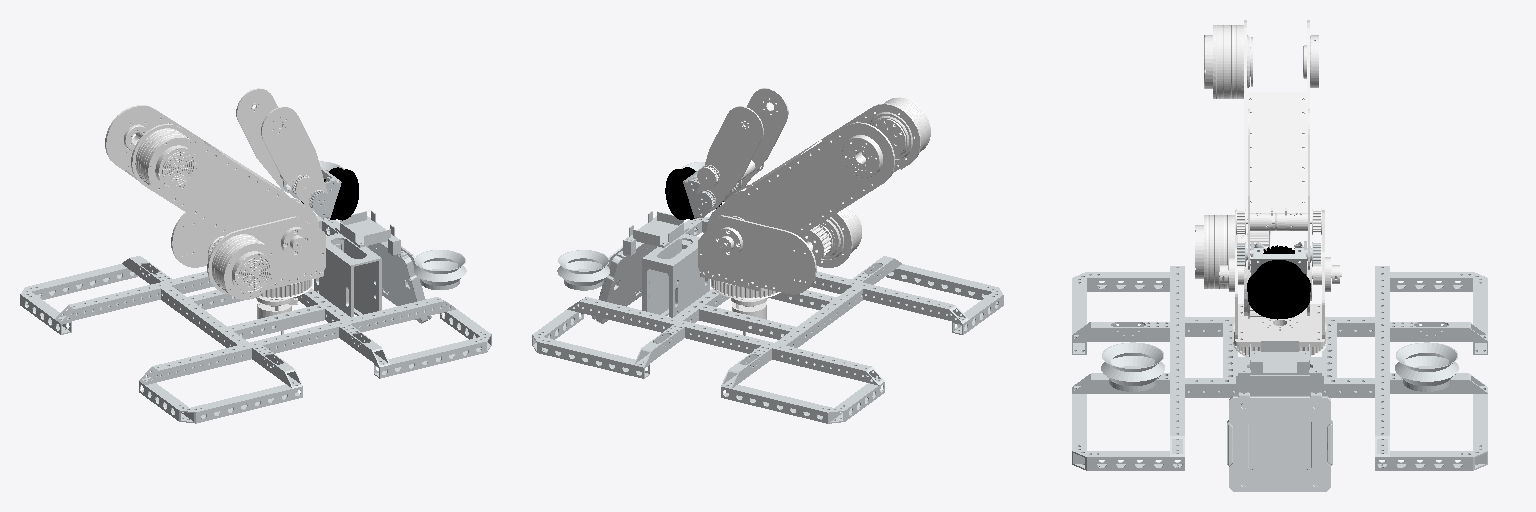
URDF robot description (rm26_version1_engineering_model):
<?xml version="1.0" encoding="utf-8"?>
<!-- This URDF was automatically created by SolidWorks to URDF Exporter! Originally created by Stephen Brawner (brawner@gmail.com) 
     Commit Version: 1.6.0-4-g7f85cfe  Build Version: 1.6.7995.38578
     For more information, please see http://wiki.ros.org/sw_urdf_exporter -->
<robot
  name="rm26_version1_engineering_model">
  <link
    name="base_link">
  </link>
  <link
    name="chasis_Link">
    <inertial>
      <origin
        xyz="0.011583 0.00022577 0.036705"
        rpy="0 0 0" />
      <mass
        value="2.0877" />
      <inertia
        ixx="0.0029411"
        ixy="-1.5751E-07"
        ixz="3.5749E-05"
        iyy="0.016809"
        iyz="-1.6425E-08"
        izz="0.018688" />
    </inertial>
    <visual>
      <origin
        xyz="0 0 0"
        rpy="0 0 0" />
      <geometry>
        <mesh
          filename="package://rm26_version1_engineering_model/meshes/chasis_Link.STL" />
      </geometry>
      <material
        name="">
        <color
          rgba="0.89804 0.91765 0.92941 1" />
      </material>
    </visual>
    <collision>
      <origin
        xyz="0 0 0"
        rpy="0 0 0" />
      <geometry>
        <mesh
          filename="package://rm26_version1_engineering_model/meshes/chasis_Link.STL" />
      </geometry>
    </collision>
  </link>
  <joint
    name="chasis_fix_joint"
    type="fixed">
    <origin
      xyz="0 0 0.0065"
      rpy="0 0 0" />
    <parent
      link="base_link" />
    <child
      link="chasis_Link" />
    <axis
      xyz="0 0 0" />
  </joint>
  <link
    name="fl_Link">
  </link>
  <joint
    name="fl_joint"
    type="revolute">
    <origin
      xyz="0.134999999999994 0.145000000000009 0.0345000000000023"
      rpy="-1.5707963267949 0 0" />
    <parent
      link="chasis_Link" />
    <child
      link="fl_Link" />
    <axis
      xyz="0 0 -1" />
    <limit
      lower="-3.14"
      upper="3.14"
      effort="0"
      velocity="0" />
  </joint>
  <link
    name="fr_Link">
  </link>
  <joint
    name="fr_joint"
    type="revolute">
    <origin
      xyz="0.134999999999995 -0.144999999999996 0.0345000000000023"
      rpy="1.5707963267949 0 0" />
    <parent
      link="chasis_Link" />
    <child
      link="fr_Link" />
    <axis
      xyz="0 0 -1" />
    <limit
      lower="-3.14"
      upper="3.14"
      effort="0"
      velocity="0" />
  </joint>
  <link
    name="rl_Link">
  </link>
  <joint
    name="rl_joint"
    type="revolute">
    <origin
      xyz="-0.235000000000006 0.14500000000001 0.0345000000000023"
      rpy="-1.5707963267949 0 0" />
    <parent
      link="chasis_Link" />
    <child
      link="rl_Link" />
    <axis
      xyz="0 0 -1" />
    <limit
      lower="-3.14"
      upper="3.14"
      effort="0"
      velocity="0" />
  </joint>
  <link
    name="rr_Link">
  </link>
  <joint
    name="rr_joint"
    type="revolute">
    <origin
      xyz="-0.220000000000005 -0.144999999999996 0.0345000000000023"
      rpy="1.5707963267949 0 0" />
    <parent
      link="chasis_Link" />
    <child
      link="rr_Link" />
    <axis
      xyz="0 0 -1" />
    <limit
      lower="-3.14"
      upper="3.14"
      effort="0"
      velocity="0" />
  </joint>
  <link
    name="j1_Link">
    <inertial>
      <origin
        xyz="-0.0343319480610391 -0.0160298397087286 0.0543083307807403"
        rpy="0 0 0" />
      <mass
        value="1.88378095557823" />
      <inertia
        ixx="0.014829968"
        ixy="0.003109302"
        ixz="-0.005532366"
        iyy="0.017550057"
        iyz="-0.002561858"
        izz="0.013037222"
      />
    </inertial>
    <visual>
      <origin
        xyz="0 0 0"
        rpy="0 0 0" />
      <geometry>
        <mesh
          filename="package://rm26_version1_engineering_model/meshes/j1_Link.STL" />
      </geometry>
      <material
        name="">
        <color
          rgba="1 1 1 1" />
      </material>
    </visual>
    <collision>
      <origin
        xyz="0 0 0"
        rpy="0 0 0" />
      <geometry>
        <mesh
          filename="package://rm26_version1_engineering_model/meshes/j1_Link.STL" />
      </geometry>
    </collision>
  </link>
  <joint
    name="j1"
    type="revolute">
    <origin
      xyz="0 0 0.0715"
      rpy="0 0 0" />
    <parent
      link="chasis_Link" />
    <child
      link="j1_Link" />
    <axis
      xyz="0 0 1" />
    <limit
      lower="-1.5708"
      upper="1.5708"
      effort="0"
      velocity="0" />
  </joint>
  <link
    name="j2_Link">
    <inertial>
      <origin
        xyz="-0.104574009513968 0.0877502232422464 -0.0474977898176291"
        rpy="0 0 0" />
      <mass
        value="6.58810684481394" />
      <inertia
        ixx="0.034884073"
        ixy="0.0"
        ixz="0.0"
        iyy="0.046787800"
        iyz="0.0"
        izz="0.067943956"
      />
    </inertial>
    <visual>
      <origin
        xyz="0 0 0"
        rpy="0 0 0" />
      <geometry>
        <mesh
          filename="package://rm26_version1_engineering_model/meshes/j2_Link.STL" />
      </geometry>
      <material
        name="">
        <color
          rgba="1 1 1 1" />
      </material>
    </visual>
    <collision>
      <origin
        xyz="0 0 0"
        rpy="0 0 0" />
      <geometry>
        <mesh
          filename="package://rm26_version1_engineering_model/meshes/j2_Link.STL" />
      </geometry>
    </collision>
  </link>
  <joint
    name="j2"
    type="revolute">
    <origin
      xyz="0 -0.0679999999999988 0.0999999999999999"
      rpy="1.5707963267949 0 0" />
    <parent
      link="j1_Link" />
    <child
      link="j2_Link" />
    <axis
      xyz="0 0 -1" />
    <limit
      lower="-0.5"
      upper="3.14"
      effort="0"
      velocity="0" />
  </joint>
  <link
    name="j3_Link">
    <inertial>
      <origin xyz="0.081636 0.003447 -0.029967" rpy="0 0 0" />
      <mass
        value="0.505" />
        <inertia
          ixx="0.000869007"
          ixy="0.000149698"
          ixz="-0.001235996"
          iyy="0.004708467"
          iyz="-0.000052191"
          izz="0.004219722"
        />
    </inertial>
    <visual>
      <origin
        xyz="0 0 0"
        rpy="0 0 0" />
      <geometry>
        <mesh
          filename="package://rm26_version1_engineering_model/meshes/j3_Link.STL" />
      </geometry>
      <material
        name="">
        <color
          rgba="1 1 1 1" />
      </material>
    </visual>
    <collision>
      <origin
        xyz="0 0 0"
        rpy="0 0 0" />
      <geometry>
        <mesh
          filename="package://rm26_version1_engineering_model/meshes/j3_Link.STL" />
      </geometry>
    </collision>
  </link>
  <joint
    name="j3"
    type="revolute">
    <origin
      xyz="-0.237476651133987 0.199260734130401 -0.0357500000000011"
      rpy="0 0 0" />
    <parent
      link="j2_Link" />
    <child
      link="j3_Link" />
    <axis
      xyz="0 0 1" />
    <limit
      lower="-0.5"
      upper="3.14"
      effort="0"
      velocity="0" />
  </joint>
  <link
    name="j4_Link">
    <inertial>
      <origin xyz="-0.006490 -0.000047 0.035837" rpy="0 0 0" />
      <mass
        value="0.462" />
        <inertia
          ixx="0.001083965"
          ixy="-0.000000217"
          ixz="-0.000156009"
          iyy="0.001132132"
          iyz="-0.000001137"
          izz="0.000305823"
        />
    </inertial>
    <visual>
      <origin
        xyz="0 0 0"
        rpy="0 0 0" />
      <geometry>
        <mesh
          filename="package://rm26_version1_engineering_model/meshes/j4_Link.STL" />
      </geometry>
      <material
        name="">
        <color
          rgba="1 1 1 1" />
      </material>
    </visual>
    <collision>
      <origin
        xyz="0 0 0"
        rpy="0 0 0" />
      <geometry>
        <mesh
          filename="package://rm26_version1_engineering_model/meshes/j4_Link.STL" />
      </geometry>
    </collision>
  </link>
  <joint
    name="j4"
    type="revolute">
    <origin
      xyz="0.169493070688242 0.00153264107687906 -0.0300000000000037"
      rpy="0.0690296114429052 1.57079631189374 0.0780718649087891" />
    <parent
      link="j3_Link" />
    <child
      link="j4_Link" />
    <axis
      xyz="0 0 1" />
    <limit
      lower="-1.5708"
      upper="1.5708"
      effort="0"
      velocity="0" />
  </joint>
  <link
    name="j5_Link">
    <inertial>
      <origin xyz="0.042788 -0.082120 -0.041539" rpy="0 0 0" />
      <mass
        value="0.504" />
      <inertia
        ixx="0.004252711"
        ixy="0.0"
        ixz="0.0"
        iyy="0.001917301"
        iyz="0.0"
        izz="0.004077796"
      />
    </inertial>
    <visual>
      <origin
        xyz="0 0 0"
        rpy="0 0 0" />
      <geometry>
        <mesh
          filename="package://rm26_version1_engineering_model/meshes/j5_Link.STL" />
      </geometry>
      <material
        name="">
        <color
          rgba="1 1 1 1" />
      </material>
    </visual>
    <collision>
      <origin
        xyz="0 0 0"
        rpy="0 0 0" />
      <geometry>
        <mesh
          filename="package://rm26_version1_engineering_model/meshes/j5_Link.STL" />
      </geometry>
    </collision>
  </link>
  <joint
    name="j5"
    type="revolute">
    <origin
      xyz="-0.0405 0 0.0519999999999997"
      rpy="1.57079632679459 -1.56175407332899 -1.57079632679459" />
    <parent
      link="j4_Link" />
    <child
      link="j5_Link" />
    <axis
      xyz="0 0 1" />
    <limit
      lower="-1.0"
      upper="3.14"
      effort="0"
      velocity="0" />
  </joint>
  <link
    name="j6_Link">
    <inertial>
      <origin
        xyz="0.013625 -0.0033291 -0.057355"
        rpy="0 0 0" />
      <mass
        value="0.26827" />
      <inertia
        ixx="0.000638216"
        ixy="-0.000006051"
        ixz="-0.000097795"
        iyy="0.000668380"
        iyz="0.000023896"
        izz="0.000094883"
      />
    </inertial>
    <visual>
      <origin
        xyz="0 0 0"
        rpy="0 0 0" />
      <geometry>
        <mesh
          filename="package://rm26_version1_engineering_model/meshes/j6_Link.STL" />
      </geometry>
      <material
        name="">
        <color
          rgba="0.89804 0.91765 0.92941 1" />
      </material>
    </visual>
    <collision>
      <origin
        xyz="0 0 0"
        rpy="0 0 0" />
      <geometry>
        <mesh
          filename="package://rm26_version1_engineering_model/meshes/j6_Link.STL" />
      </geometry>
    </collision>
  </link>
  <joint
    name="end_differential_controller/pitch_joint"
    type="revolute">
    <origin
      xyz="0.069218 -0.14702 0.0145"
      rpy="0 0 0" />
    <parent
      link="j5_Link" />
    <child
      link="j6_Link" />
    <axis
      xyz="0 0 1" />
    <limit
      lower="-3.14"
      upper="3.14"
      effort="0"
      velocity="0" />
  </joint>
  <link
    name="j7_Link">
    <inertial>
      <origin
        xyz="-7.2073E-08 -1.5554E-08 -0.023807"
        rpy="0 0 0" />
      <mass
        value="0.193033" />
      <inertia
        ixx="0.000097534"
        ixy="0.000000000"
        ixz="0.000000000"
        iyy="0.000097534"
        iyz="0.000000000"
        izz="0.000062549"
      />
    </inertial>
    <visual>
      <origin
        xyz="0 0 0"
        rpy="0 0 0" />
      <geometry>
        <mesh
          filename="package://rm26_version1_engineering_model/meshes/j7_Link.STL" />
      </geometry>
      <material
        name="">
        <color
          rgba="0 0 0 1" />
      </material>
    </visual>
    <collision>
      <origin
        xyz="0 0 0"
        rpy="0 0 0" />
      <geometry>
        <mesh
          filename="package://rm26_version1_engineering_model/meshes/j7_Link.STL" />
      </geometry>
    </collision>
  </link>
  <joint
    name="end_differential_controller/roll_joint"
    type="revolute">
    <origin
      xyz="0.0580129237069084 -0.0209112041918646 -0.0559603303461728"
      rpy="0.34596069605537 1.5707963267949 0" />
    <parent
      link="j6_Link" />
    <child
      link="j7_Link" />
    <axis
      xyz="0 0 -1" />
    <limit
      lower="-3.14"
      upper="3.14"
      effort="0"
      velocity="0" />
  </joint>
</robot>

--- Facts derived from the render (not from the file) ---
3 views of the same robot in one strip: view 1: azimuth 30°, elevation 25°; view 2: azimuth 150°, elevation 25°; view 3: azimuth 270°, elevation 25° (orthographic).
Model rm26_version1_engineering_model with 13 links and 12 joints (11 revolute, 1 fixed), rooted at base_link, posed every joint at zero.
Links seen in each view (by area): view 1: chasis_Link, j2_Link, j1_Link, j5_Link, j7_Link, j6_Link; view 2: chasis_Link, j2_Link, j1_Link, j5_Link, j7_Link, j6_Link; view 3: chasis_Link, j2_Link, j1_Link, j7_Link, j5_Link, j6_Link.
Link boxes in pixels (box(x1,y1,x2,y2)): chasis_Link: box(20, 161, 491, 423); j2_Link: box(105, 105, 318, 251); j1_Link: box(171, 212, 325, 334); j5_Link: box(236, 88, 327, 210); j7_Link: box(301, 167, 358, 220); j6_Link: box(283, 166, 341, 218); chasis_Link: box(532, 162, 1003, 423); j2_Link: box(707, 97, 930, 251); j1_Link: box(698, 206, 861, 335); j5_Link: box(697, 88, 788, 210); j7_Link: box(665, 167, 723, 219); j6_Link: box(683, 166, 741, 218); chasis_Link: box(1072, 266, 1487, 491); j2_Link: box(1204, 20, 1341, 318); j1_Link: box(1195, 210, 1330, 356); j7_Link: box(1247, 245, 1310, 319); j5_Link: box(1236, 109, 1321, 269); j6_Link: box(1237, 241, 1320, 275).
Size in the robot's own frame: 0.58 by 0.55 by 0.4716 metres.
Meshes: 8 distinct files referenced, 6 mesh visuals loaded (6 binary STL); not drawn: 2 (reference not matched to a file when rendering).
